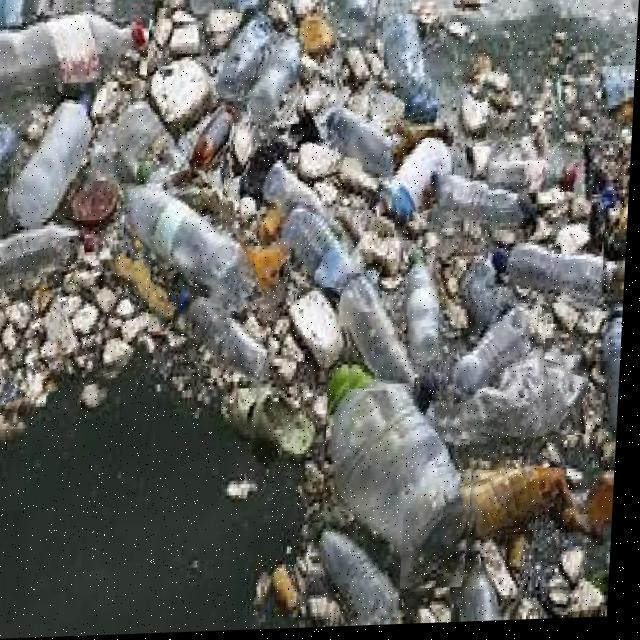litter: (332, 368, 478, 592), (0, 259, 154, 400), (128, 186, 256, 302), (0, 0, 151, 86), (14, 87, 98, 219), (317, 512, 410, 630), (448, 370, 593, 441), (441, 318, 551, 405), (180, 287, 269, 379), (349, 277, 419, 391), (492, 244, 606, 304), (476, 472, 572, 541), (385, 17, 434, 125), (292, 214, 359, 290), (222, 18, 278, 98), (0, 331, 46, 426), (326, 111, 392, 176), (259, 40, 307, 127), (393, 141, 444, 221), (454, 72, 505, 152), (491, 157, 582, 198), (440, 180, 534, 217), (411, 251, 442, 362), (151, 59, 213, 114), (0, 240, 87, 279), (555, 197, 607, 259), (567, 552, 609, 620), (298, 290, 344, 352), (354, 83, 407, 126), (51, 300, 93, 350), (201, 108, 233, 173), (225, 178, 260, 235), (299, 137, 339, 185), (80, 383, 114, 427), (73, 320, 107, 355), (99, 355, 129, 388), (339, 190, 377, 207), (18, 290, 39, 319), (0, 286, 1, 321)
